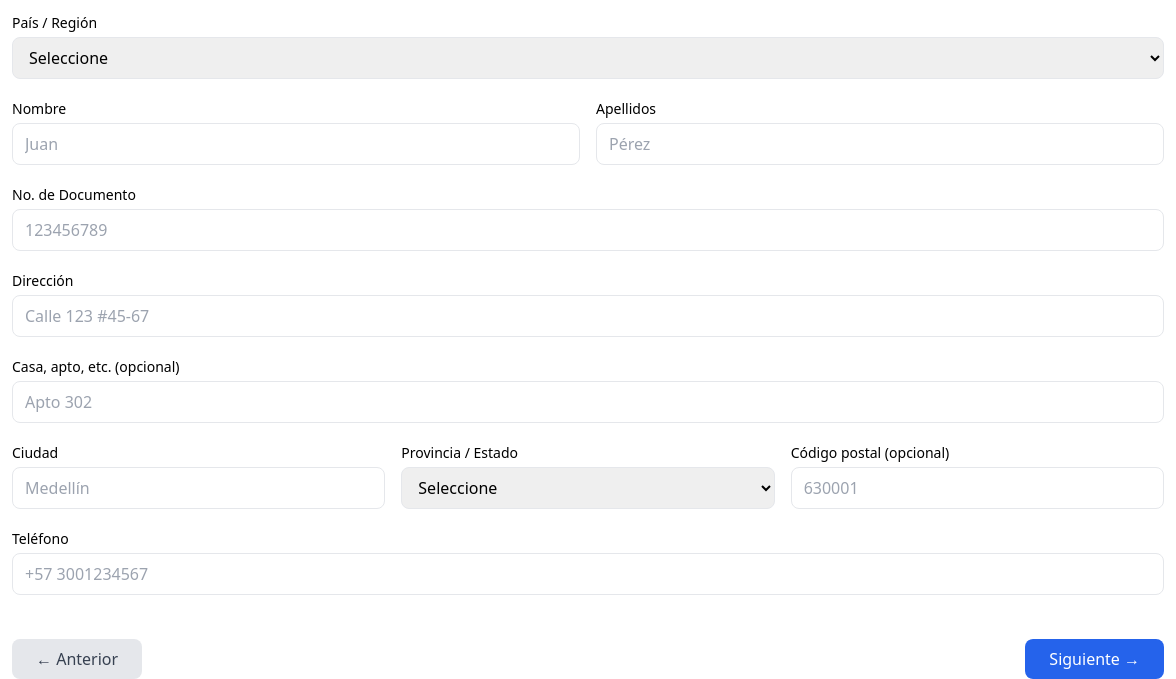
Test: DeliveryForm component › shows validation errors when submitting empty form
This screenshot has width=1176, height=679.
(page scrolled)
What coordinates should you click on to do the following:
click the button "Siguiente →"
I would click on:
 (1095, 659)
Its box is [1025,639,1164,678].
(page scrolled)
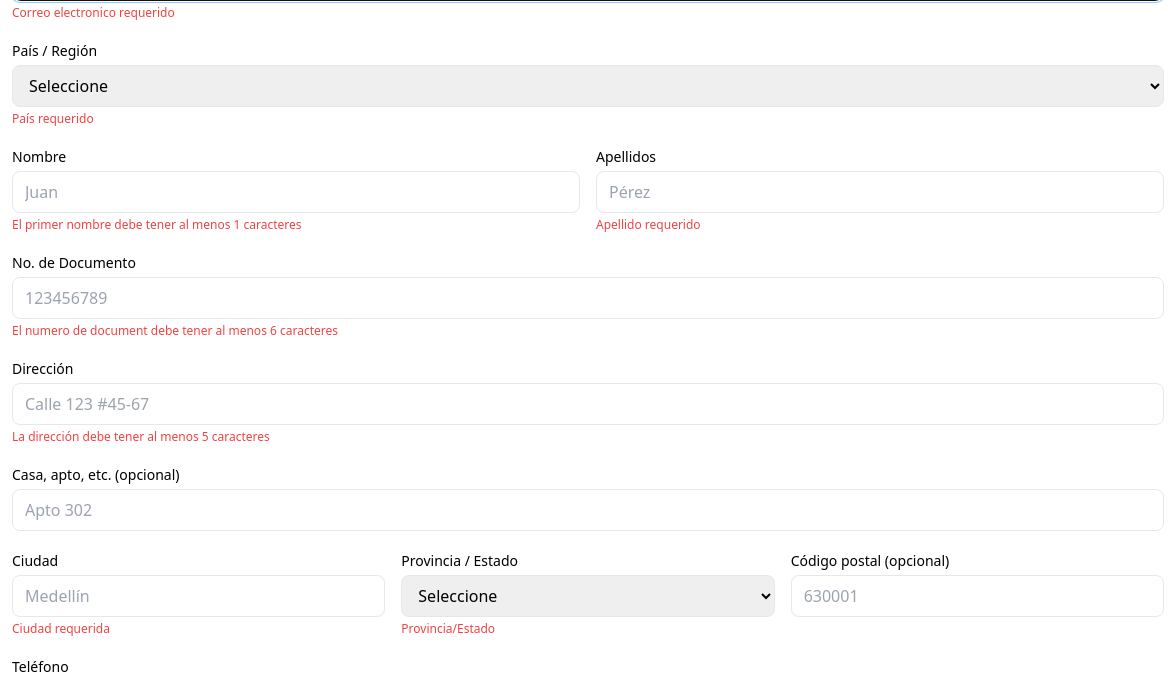
Check: the text "Correo electronico requerido" is shown, box [12,4,175,21]
